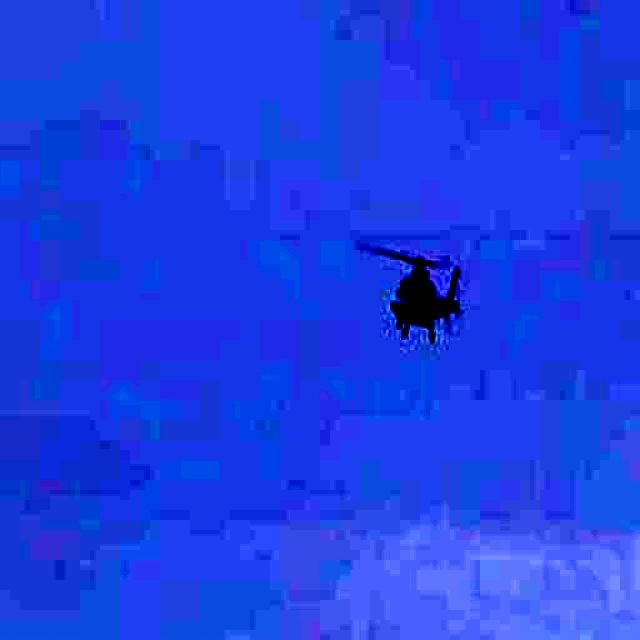drone: (329, 224, 495, 364)
